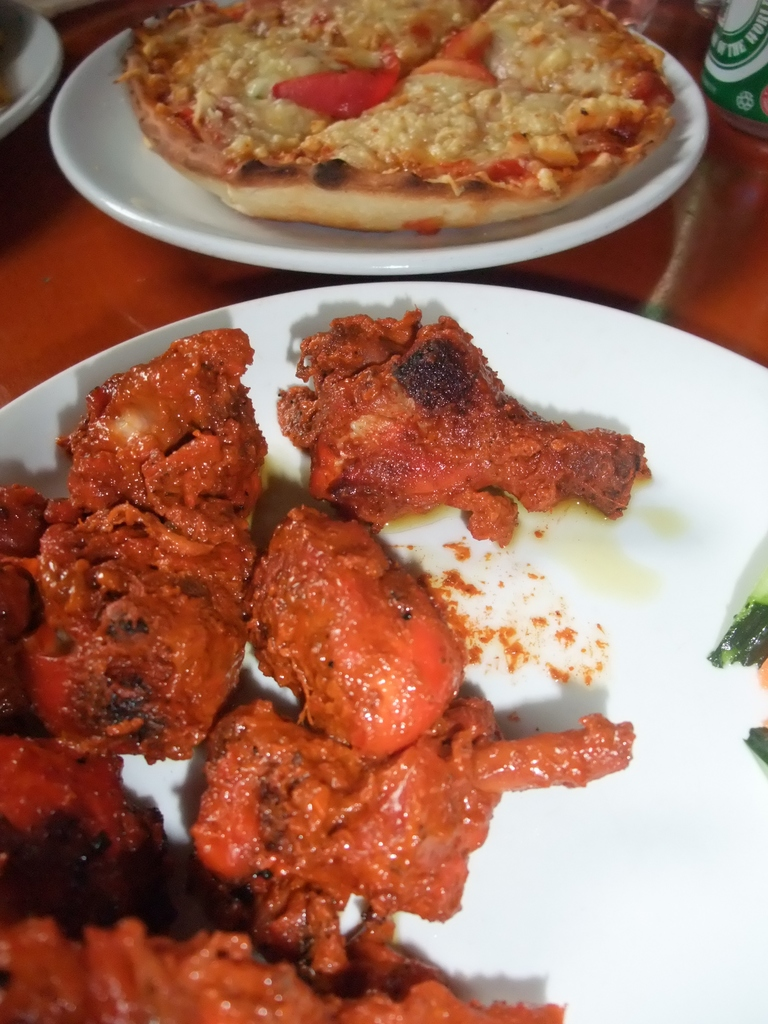Pizza: (100, 1, 668, 223)
